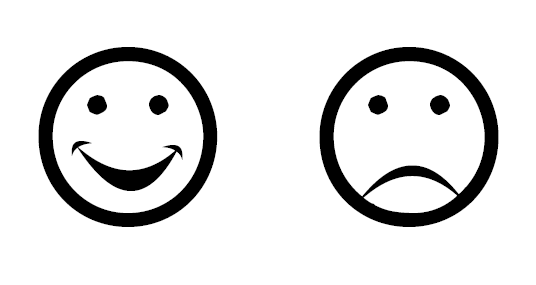feliz: (33, 49, 242, 226), (64, 85, 189, 195)
